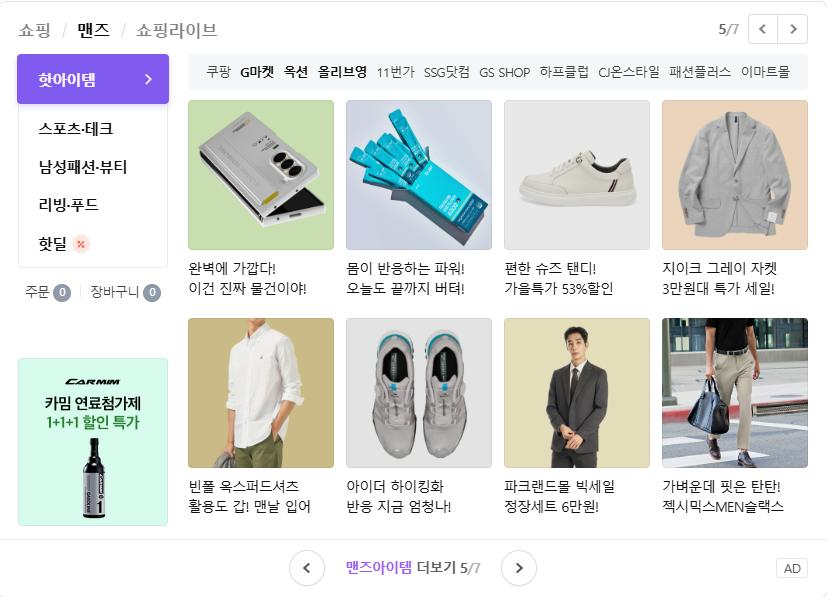button: (15, 49, 167, 100), (18, 102, 169, 144), (18, 146, 170, 187), (18, 224, 170, 256), (18, 188, 170, 219), (133, 16, 219, 43), (666, 60, 736, 82), (500, 546, 538, 584), (595, 60, 661, 81), (287, 548, 325, 583), (477, 61, 537, 81), (318, 60, 371, 81), (738, 60, 795, 79), (541, 60, 591, 81), (373, 59, 421, 80), (13, 18, 53, 41), (779, 13, 808, 43), (238, 57, 275, 80), (73, 18, 114, 38), (278, 59, 313, 82), (423, 63, 472, 79), (198, 60, 233, 82), (748, 13, 773, 41)
popup: (19, 357, 168, 521)
